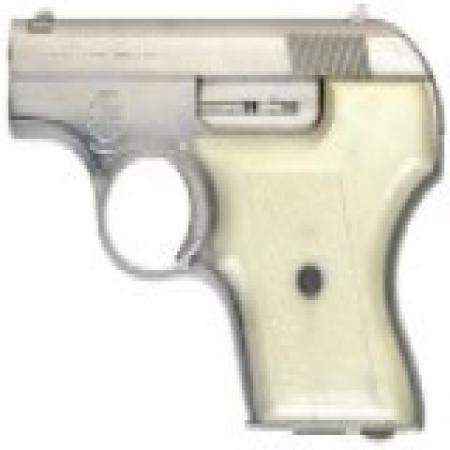Pistol: (20, 3, 442, 432)
